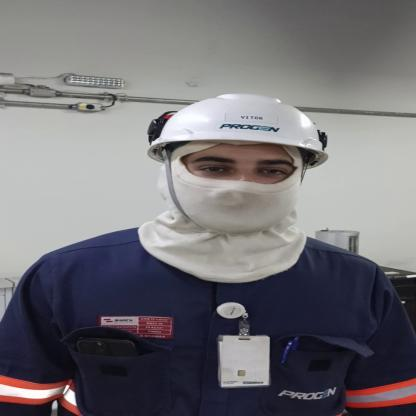Balaclava: (141, 148, 318, 282)
Capacete: (131, 92, 343, 168)
